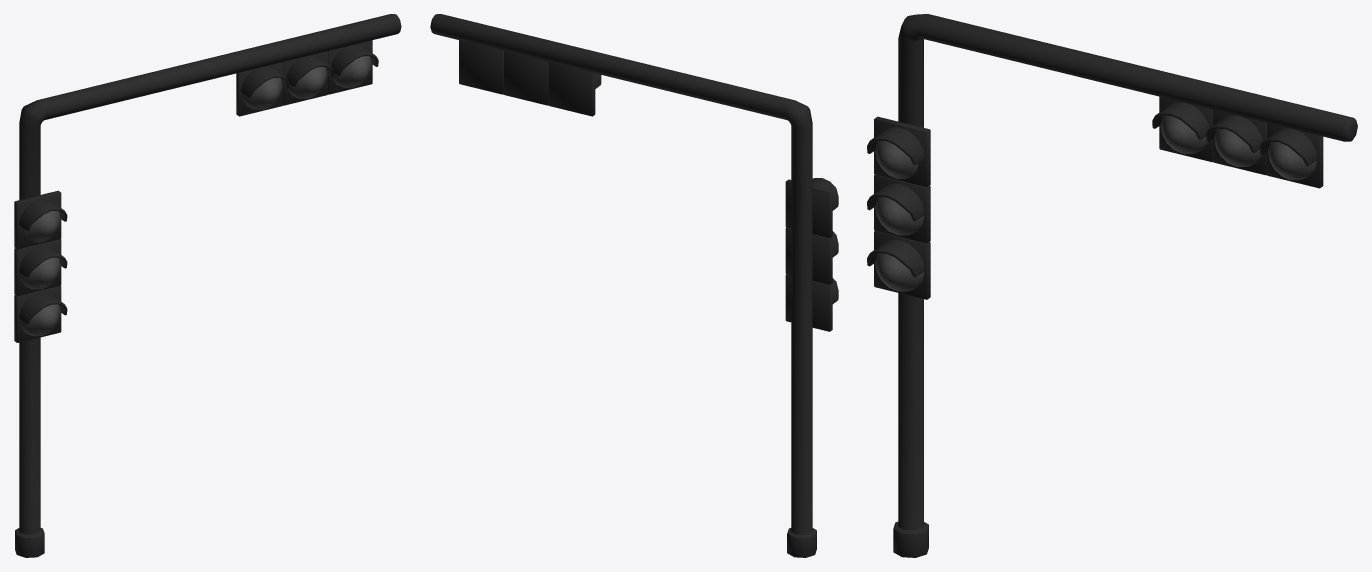
The model's file is Lamb.fbx.
3 views of the same model, side by side, from view 1: azimuth 30°, elevation 25°; view 2: azimuth 150°, elevation 25°; view 3: azimuth 330°, elevation 25° (orthographic). The views are drawn at different scales.
Parts seen in each view (by area): view 1: traffic lamp; view 2: traffic lamp; view 3: traffic lamp.
Part boxes in pixels (x1,y1,x2,y2): traffic lamp: (14,14,401,557); traffic lamp: (430,14,838,557); traffic lamp: (867,14,1357,557).
Bounding box in the file's own units: 267 × 294 × 34.33.
